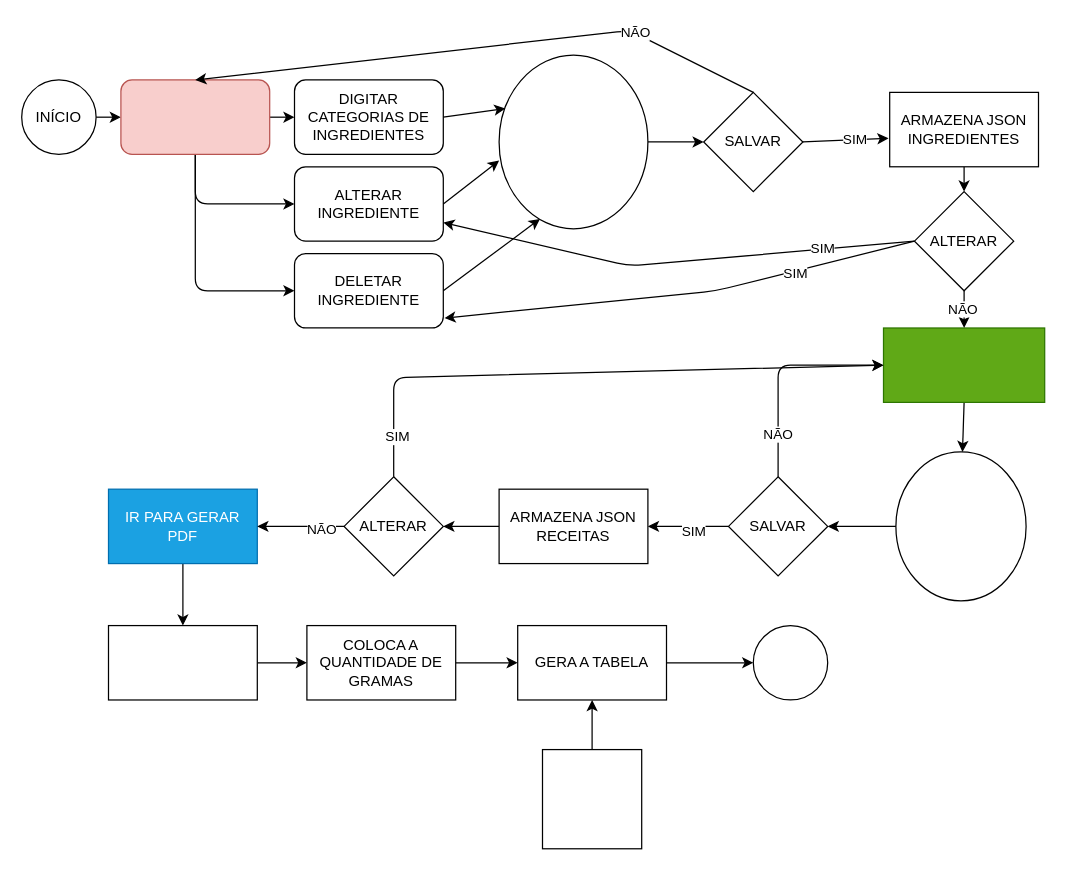
Some shapes in this 1066 by 870 pixel diagram are drawn without their labels. The shapes that lost their labels are listed below. From the top down, each one's centre as x and y in pixels, then its label:
At [195,116]: "TELA DE INÍCIO (ING)".
At [573,141]: "NOME CARBOIDRATOS GORDURA PROTEINA FIBRA SÓDIO".
At [963,364]: "IR PARA RECEITAS".
At [960,526]: "NOME QUANTIDADES ING RENDIMENTO TOTAL".
At [182,662]: "SELECIONA RECEITA".
At [790,662]: "FIM".
At [591,798]: "TEMPLATE DE TABELA".
